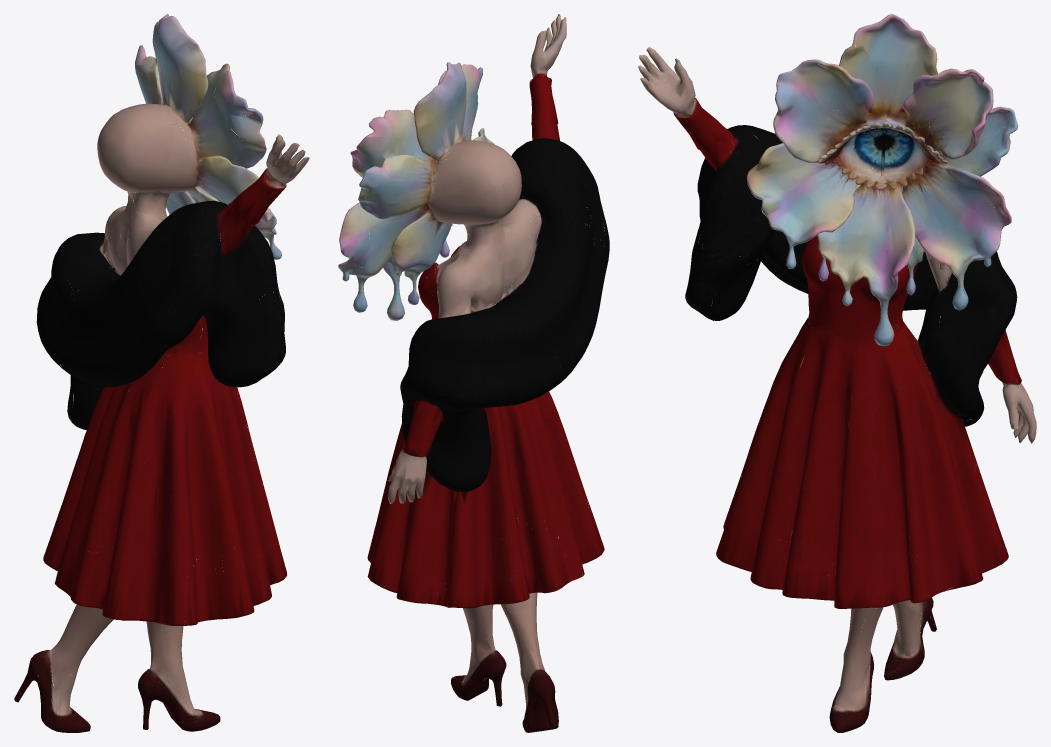
Rendered from loretta.glb.
3 renders of one model, left to right at view 1: azimuth 30°, elevation 25°; view 2: azimuth 150°, elevation 25°; view 3: azimuth 270°, elevation 25°, orthographic. The views are drawn at different scales.
Parts seen in each view (by area): view 1: tripo_node_185166c0-c877-42b5-ac3a-c83c0cdb6d57; view 2: tripo_node_185166c0-c877-42b5-ac3a-c83c0cdb6d57; view 3: tripo_node_185166c0-c877-42b5-ac3a-c83c0cdb6d57.
Part boxes in pixels (x1,y1,x2,y2): tripo_node_185166c0-c877-42b5-ac3a-c83c0cdb6d57: (14,14,309,732); tripo_node_185166c0-c877-42b5-ac3a-c83c0cdb6d57: (338,14,609,732); tripo_node_185166c0-c877-42b5-ac3a-c83c0cdb6d57: (638,14,1036,732).
Bounding box in the file's own units: 0.3258 × 1 × 0.5082.
1 material, 1 textured.
